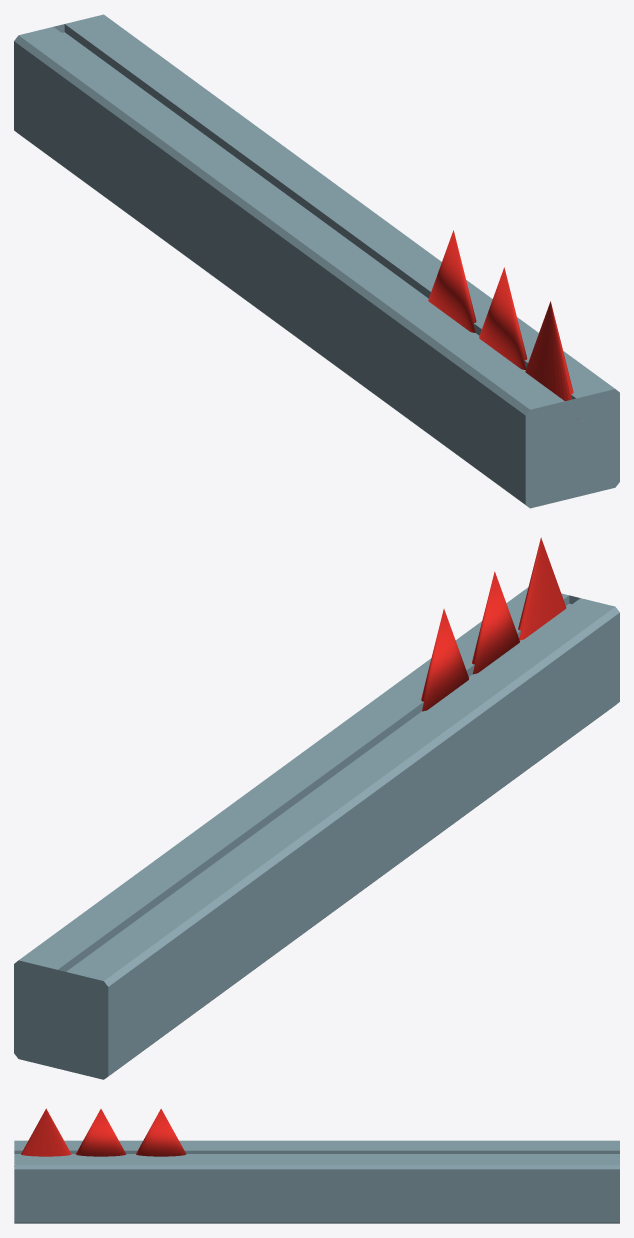
File: slide hardel.fbx
3 renders of one model, top to bottom at view 1: azimuth 30°, elevation 25°; view 2: azimuth 150°, elevation 25°; view 3: azimuth 270°, elevation 25°, orthographic. The views are drawn at different scales.
Visible parts, largest first — view 1: Cube.006, Cone.006; view 2: Cube.006, Cone.006; view 3: Cube.006, Cone.006.
Part boxes in pixels (x1=…): Cube.006: x1=14, y1=14, x2=619, y2=508; Cone.006: x1=428, y1=230, x2=577, y2=419; Cube.006: x1=14, y1=587, x2=619, y2=1079; Cone.006: x1=421, y1=537, x2=566, y2=711; Cube.006: x1=14, y1=1140, x2=619, y2=1223; Cone.006: x1=14, y1=1108, x2=186, y2=1166.
Bounding box in the file's own units: 200 × 357 × 1880.
Materials: 1 (1 with a texture image).
